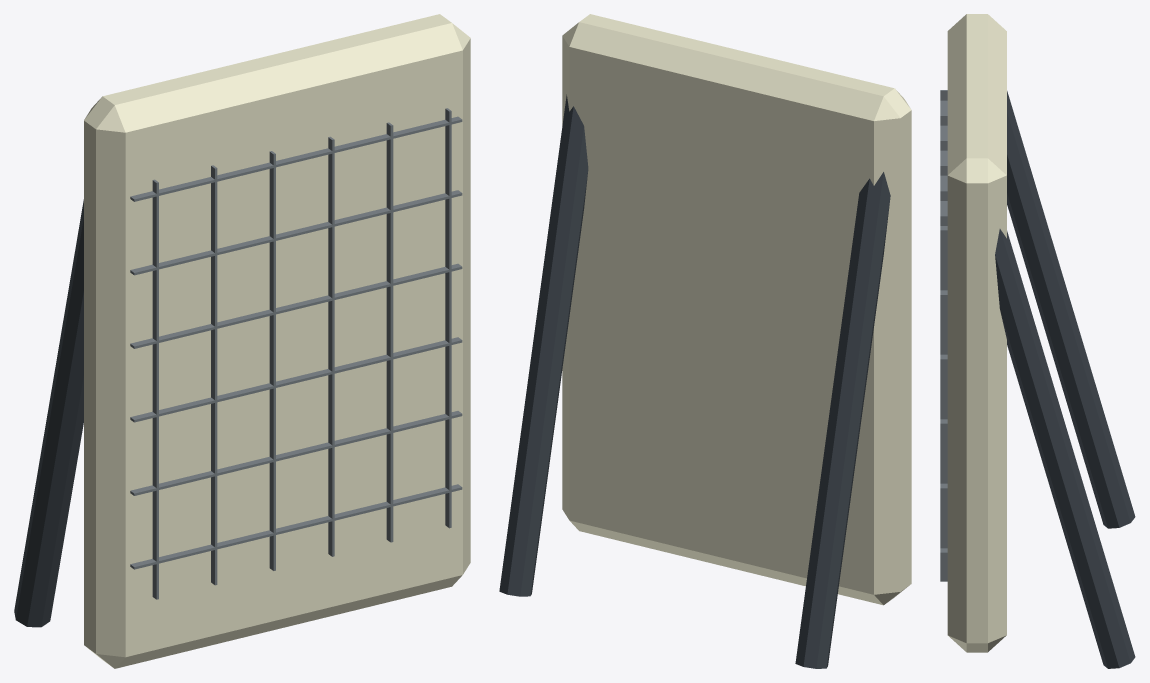
The model's file is DeskCalendar.fbx.
3 views of the same model, side by side, from view 1: azimuth 30°, elevation 25°; view 2: azimuth 150°, elevation 25°; view 3: azimuth 270°, elevation 25° (orthographic). The views are drawn at different scales.
Visible parts, largest first — view 1: DeskCalendar; view 2: DeskCalendar; view 3: DeskCalendar.
Boxes of the visible parts, bbox=[...] form: DeskCalendar: bbox=[14, 14, 470, 668]; DeskCalendar: bbox=[499, 14, 911, 668]; DeskCalendar: bbox=[940, 14, 1135, 668].
Bounding box in the file's own units: 16 × 23.68 × 8.23.
1 material, 1 textured.
